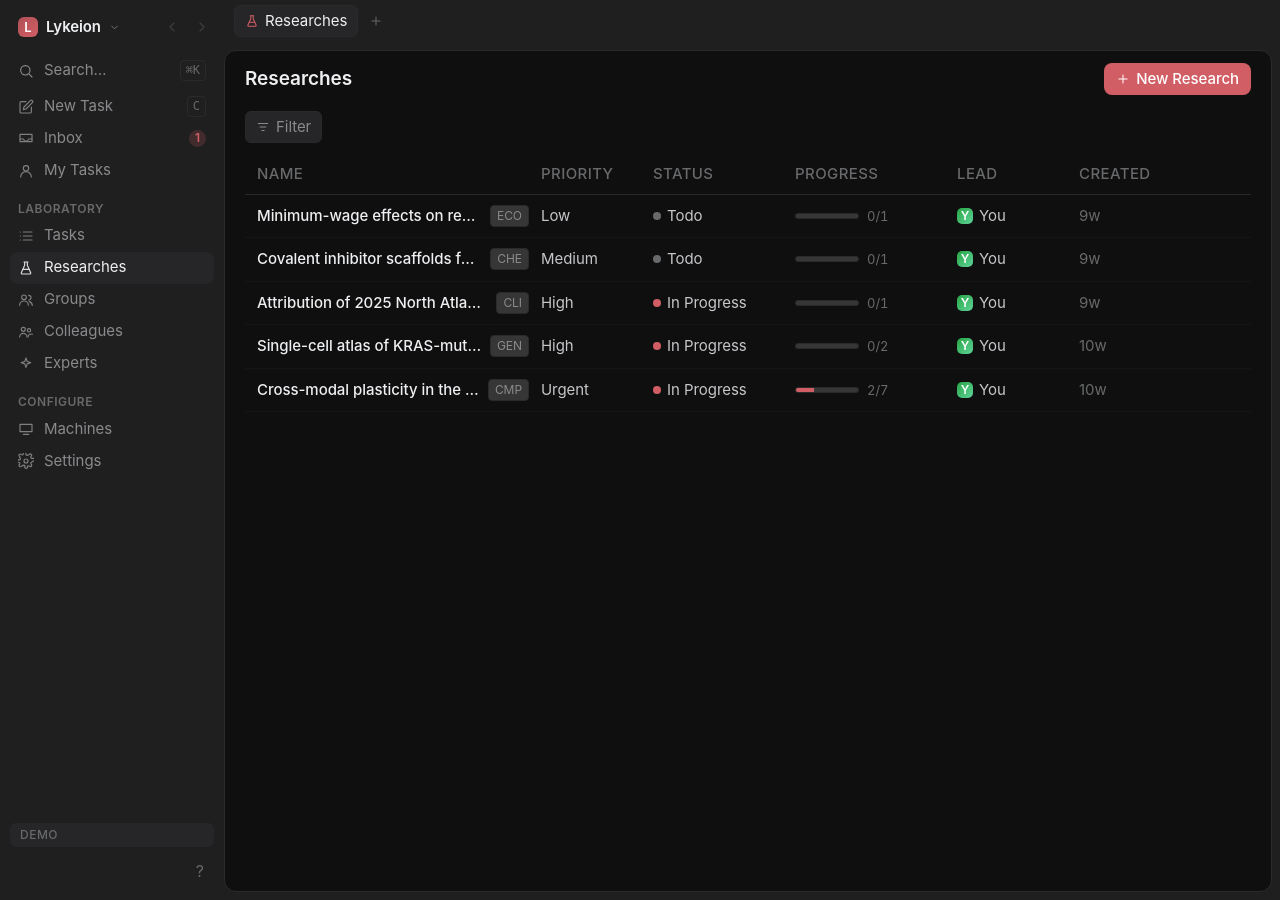
Test: My Tasks shows an unfiled task assigned to me
Click the link "My Tasks": [64, 170] box [18, 160, 111, 179]
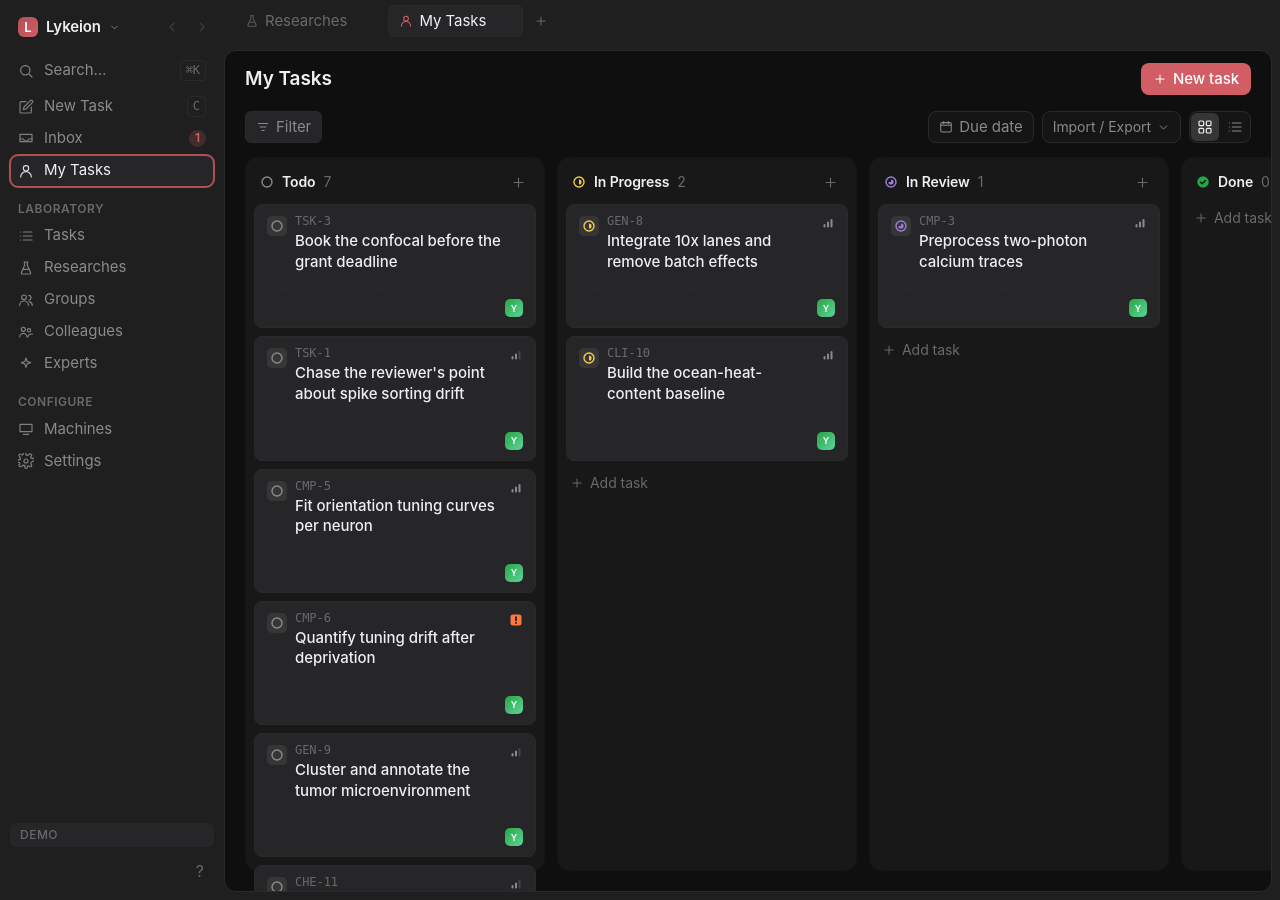
Result: the text "Book the confocal before the grant deadline" is shown at [295, 231, 523, 272]
